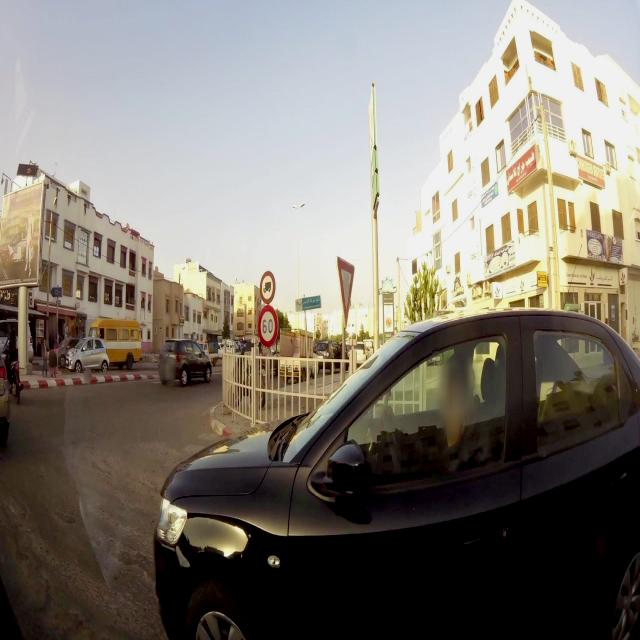car: (151, 320, 634, 630), (88, 316, 142, 368), (158, 338, 212, 386), (67, 336, 110, 373), (0, 341, 11, 447)
